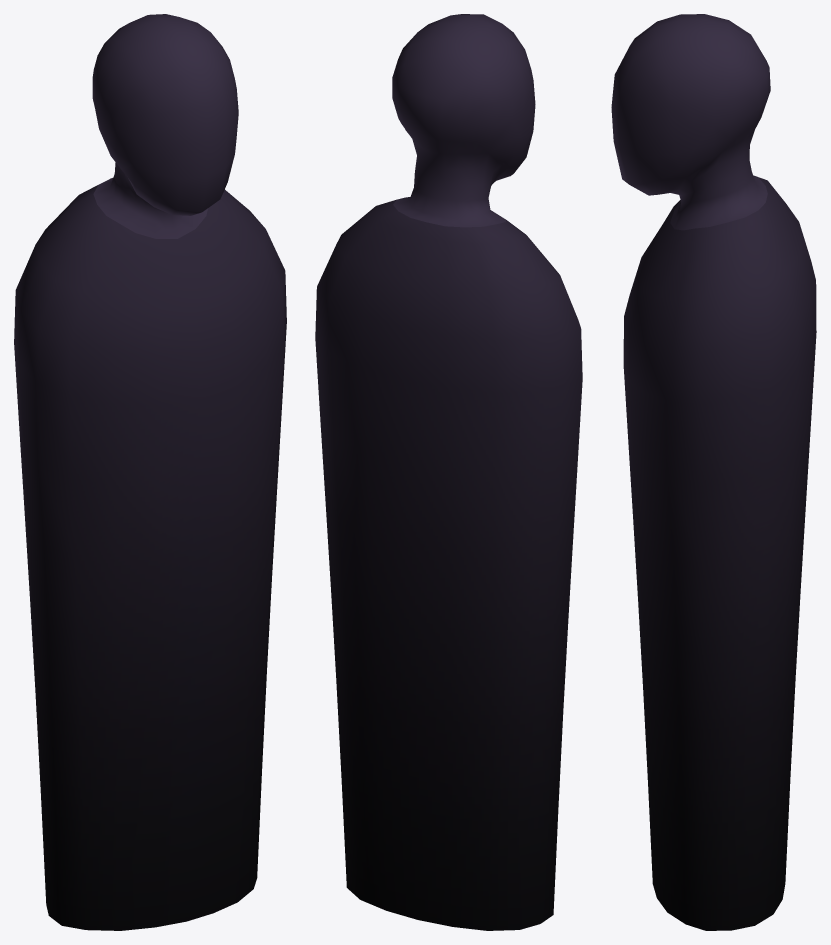
File: Shade2.fbx
The picture shows the model from 3 angles, left to right: view 1: azimuth 30°, elevation 25°; view 2: azimuth 150°, elevation 25°; view 3: azimuth 270°, elevation 25°; orthographic projection. The views are drawn at different scales.
Visible parts, largest first — view 1: ShadeModel; view 2: ShadeModel; view 3: ShadeModel.
Boxes of the visible parts, box(x1,y1,x2,y2) form: ShadeModel: box(14, 14, 286, 930); ShadeModel: box(315, 14, 582, 930); ShadeModel: box(611, 14, 816, 930).
Size of the model in its own units: 56.41 by 191 by 41.03.
